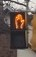stop: (10, 11, 27, 30)
